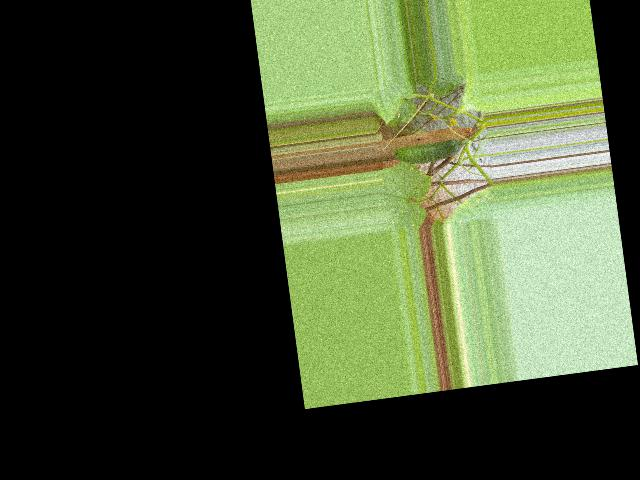cucumber: (393, 137, 461, 166)
